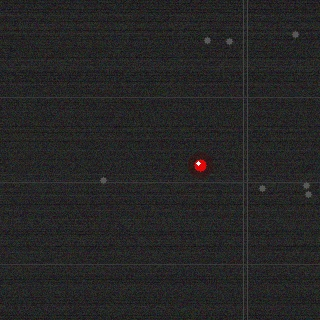red_fault: (192, 157, 208, 173)
